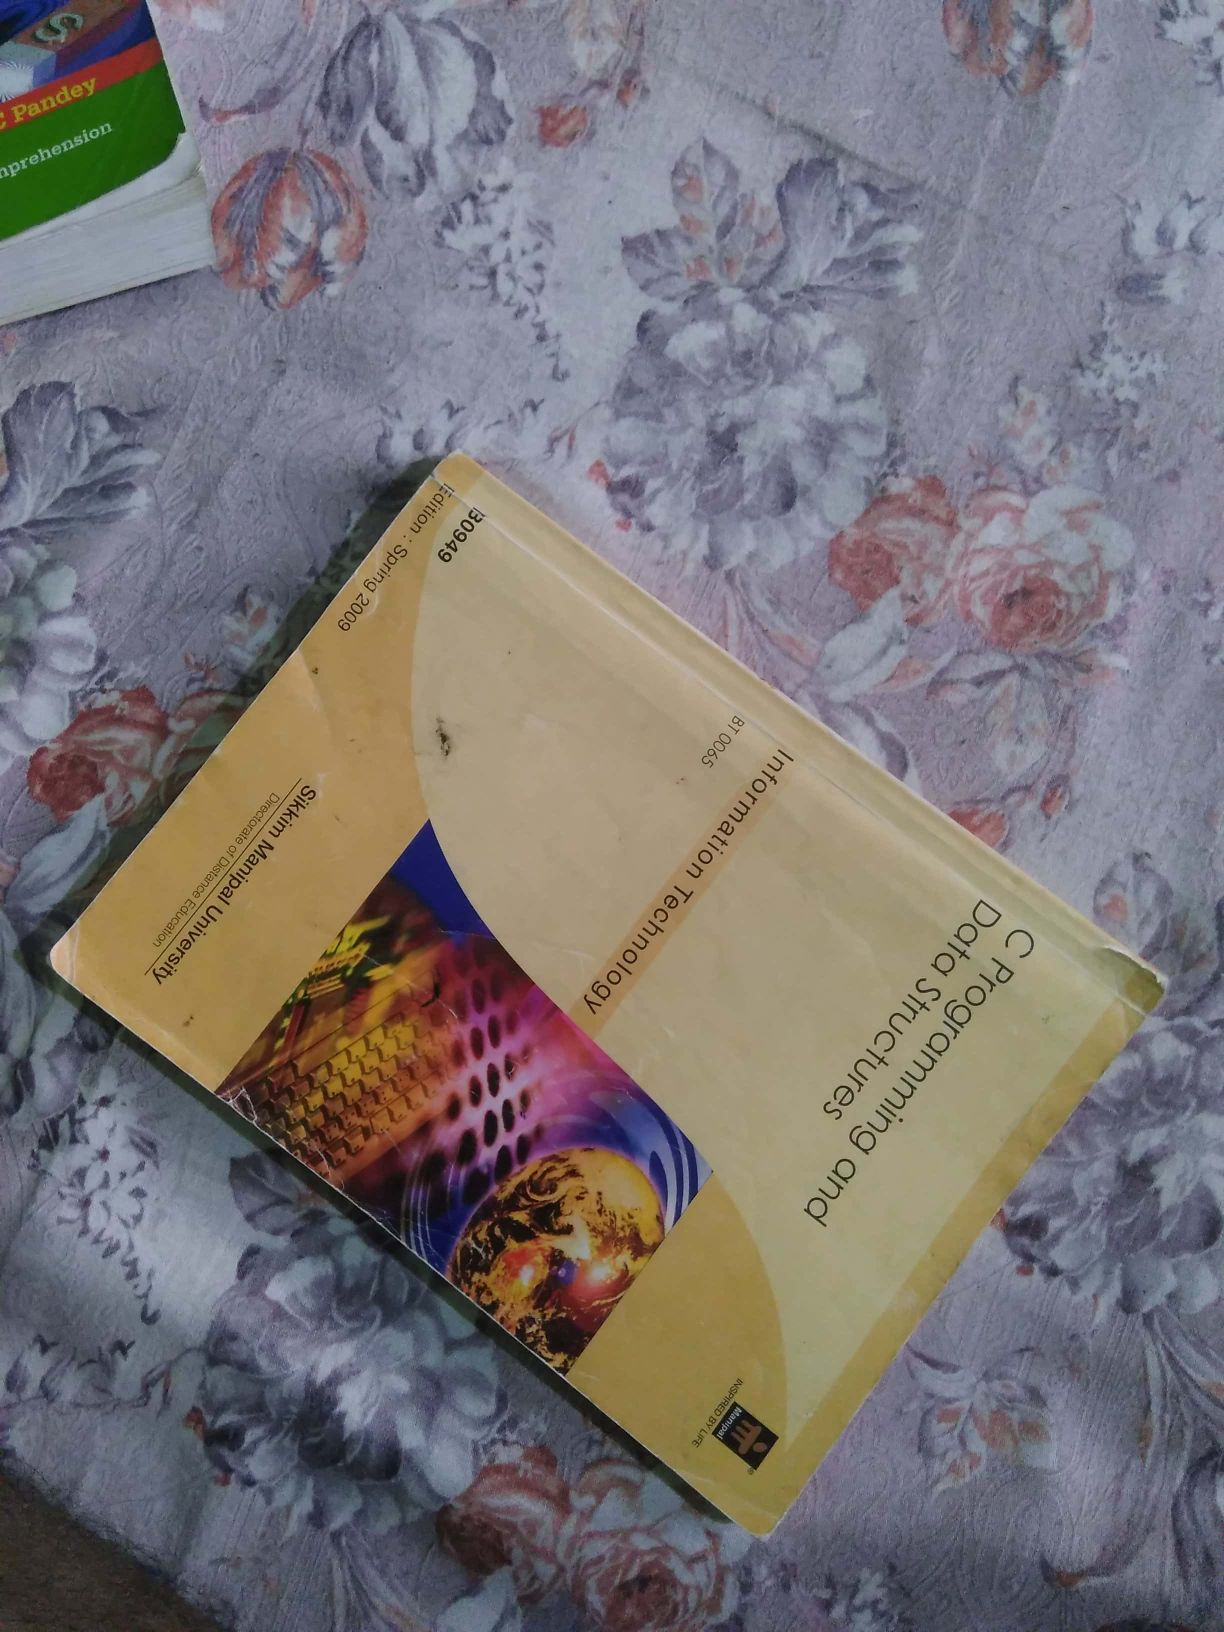clang: (81, 487, 1197, 1507)
